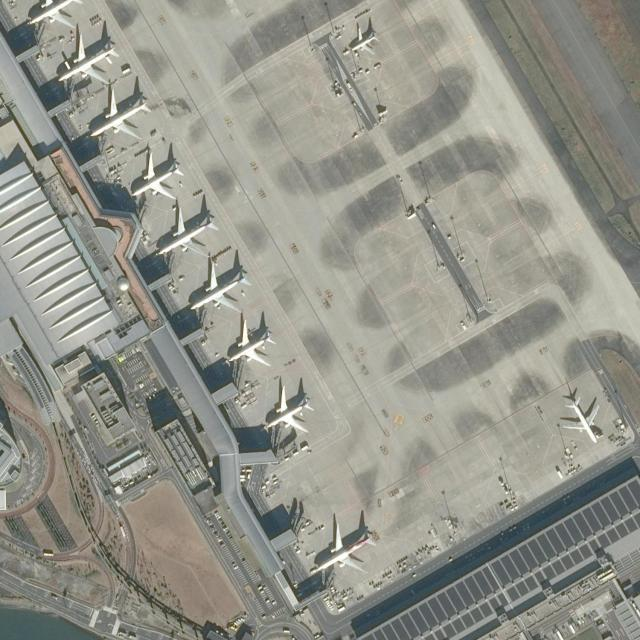Aircraft: (310, 517, 380, 573), (155, 202, 219, 258), (186, 258, 250, 314), (85, 87, 151, 141), (57, 30, 115, 89), (262, 379, 316, 435), (129, 148, 183, 202), (221, 315, 277, 366), (559, 391, 601, 445), (22, 0, 81, 28), (344, 20, 378, 56)
